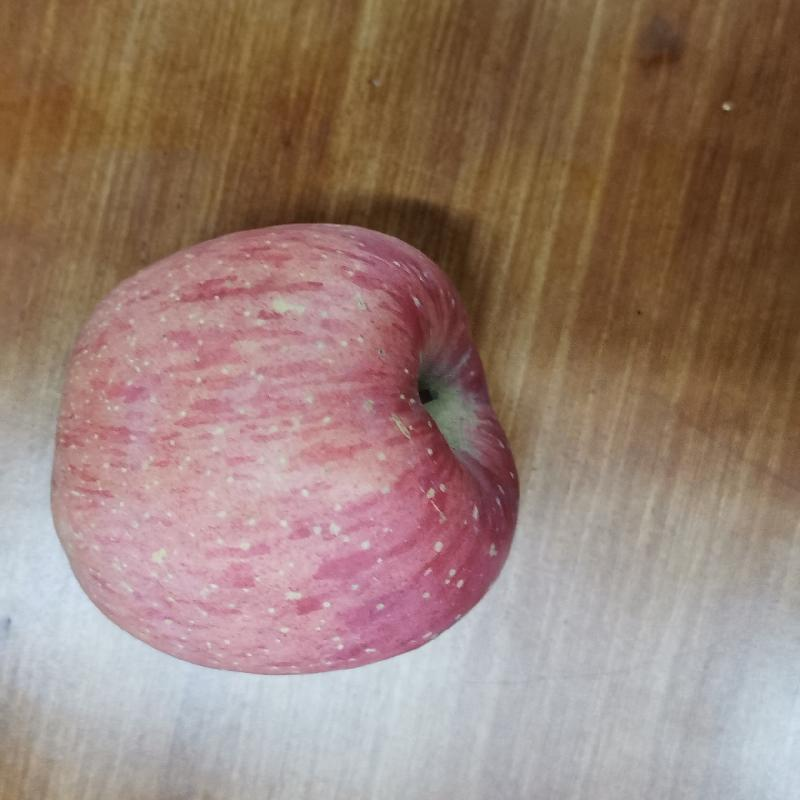apples: (46, 219, 527, 697)
